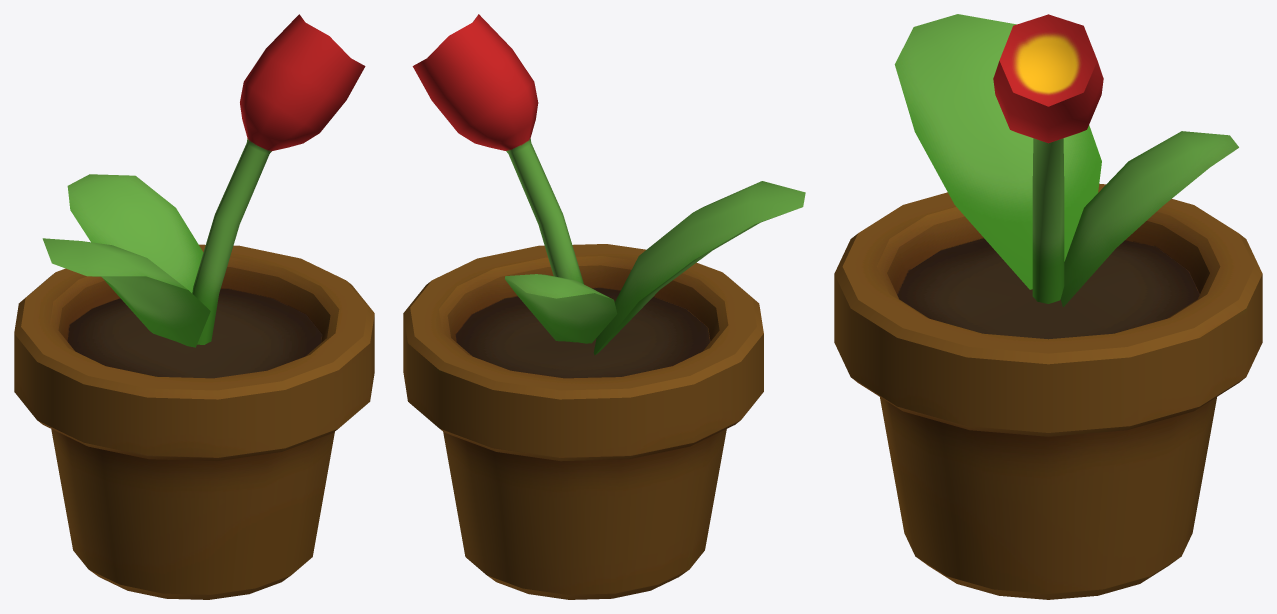
The model's file is m_Flowerpot01.obj.
3 views of the same model, side by side, from view 1: azimuth 30°, elevation 25°; view 2: azimuth 150°, elevation 25°; view 3: azimuth 270°, elevation 25° (orthographic). The views are drawn at different scales.
Parts seen in each view (by area): view 1: m_Flowerpot01_mi_FlowerpotHat; view 2: m_Flowerpot01_mi_FlowerpotHat; view 3: m_Flowerpot01_mi_FlowerpotHat.
Part boxes in pixels (x1=…): m_Flowerpot01_mi_FlowerpotHat: x1=14, y1=14, x2=374, y2=599; m_Flowerpot01_mi_FlowerpotHat: x1=403, y1=14, x2=805, y2=599; m_Flowerpot01_mi_FlowerpotHat: x1=834, y1=14, x2=1262, y2=599.
Bounding box in the file's own units: 0.6048 × 0.853 × 0.5571.
Materials: 1 (1 with a texture image).
